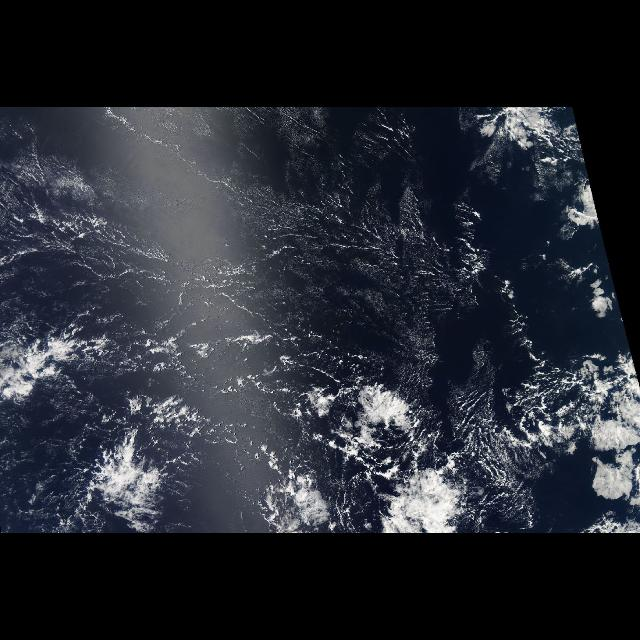Gravel: (5, 133, 195, 289), (225, 166, 480, 248), (456, 378, 526, 484)
Sugar: (109, 109, 503, 373)
